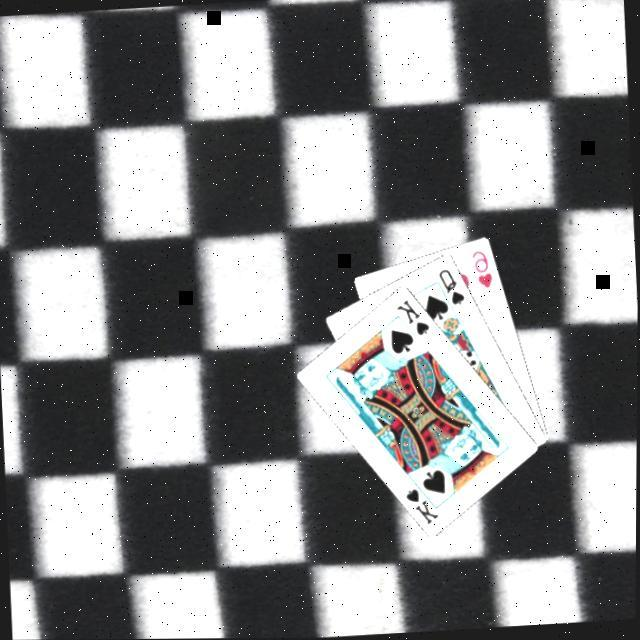6H: (470, 250, 498, 294)
KS: (404, 478, 444, 530), (394, 298, 434, 342)
QS: (436, 267, 471, 311)
